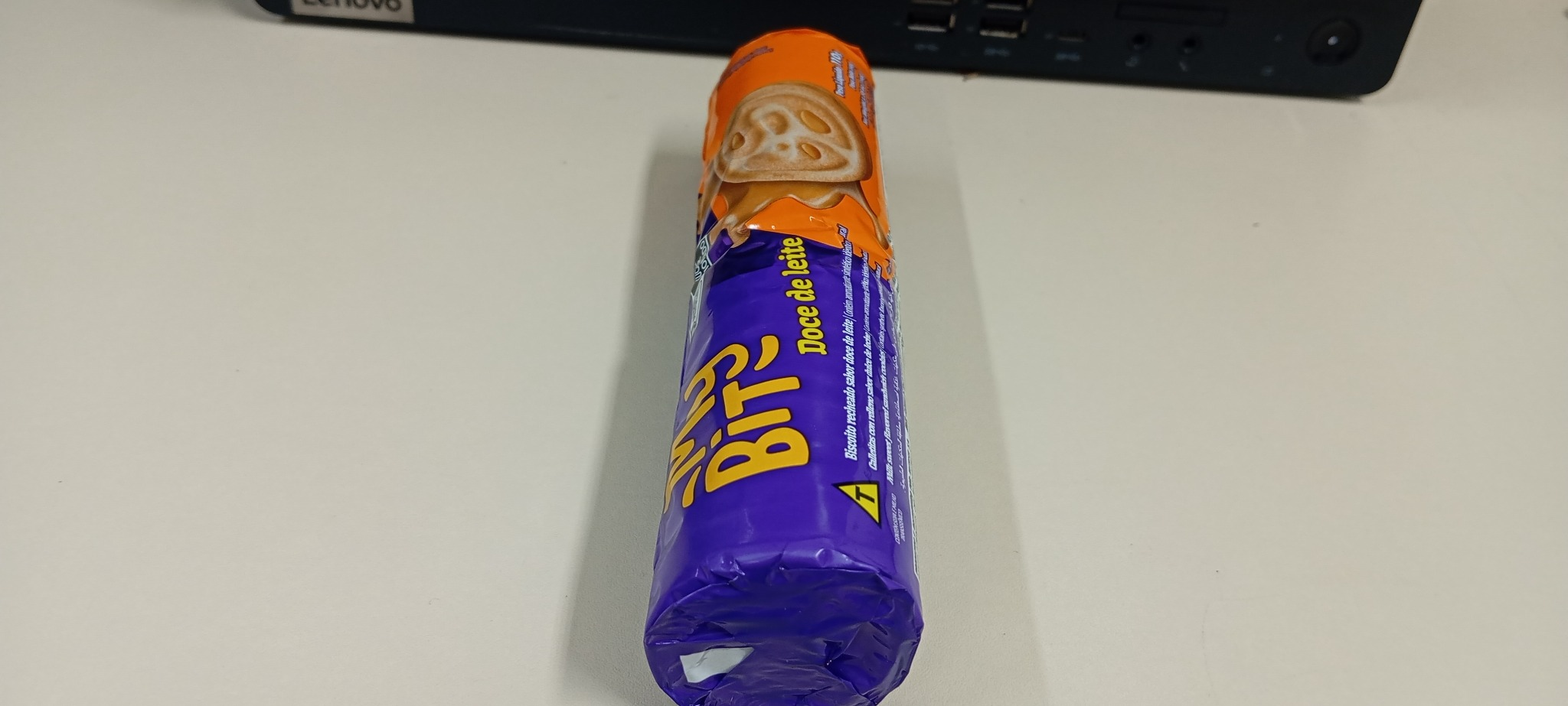my_bit_doce_leite: (632, 15, 956, 706)
